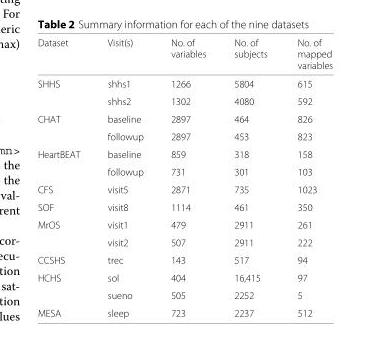table: (36, 36, 332, 318)
table column: (93, 36, 156, 318), (156, 36, 219, 318), (219, 36, 281, 318), (36, 36, 93, 318), (281, 36, 332, 318)
table column header: (36, 36, 332, 74)
table row: (36, 36, 332, 74), (36, 74, 332, 92), (36, 109, 332, 127), (36, 127, 332, 145), (36, 162, 332, 180), (36, 197, 332, 215), (36, 215, 332, 233), (36, 250, 332, 268), (36, 268, 332, 286), (36, 92, 332, 109), (36, 145, 332, 162), (36, 180, 332, 197), (36, 233, 332, 250), (36, 286, 332, 303), (36, 303, 332, 318)
table spanning cell: (36, 109, 93, 145), (36, 74, 93, 109), (36, 145, 93, 180), (36, 215, 93, 250), (36, 268, 93, 303)
